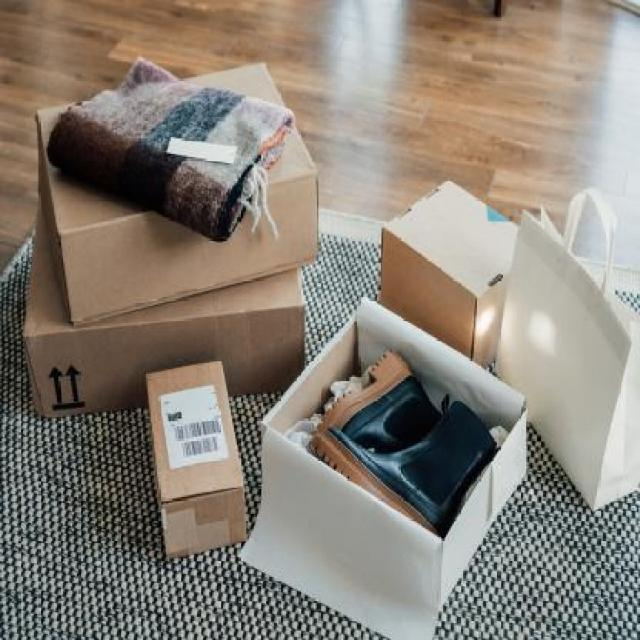box: (32, 51, 322, 318), (27, 218, 301, 416), (382, 181, 532, 371), (144, 356, 249, 566)
